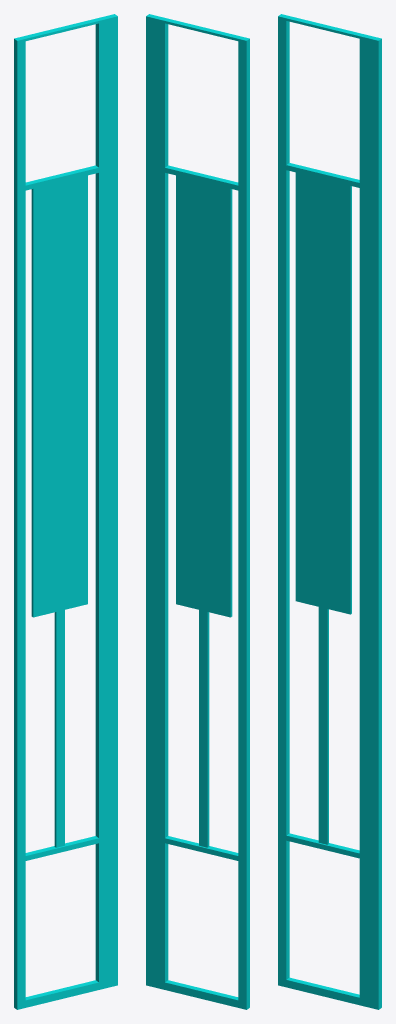
Rendered from DoorTag06.fbx.
3 views of the same model, side by side, from view 1: azimuth 30°, elevation 25°; view 2: azimuth 150°, elevation 25°; view 3: azimuth 330°, elevation 25° (orthographic).
Visible parts, largest first — view 1: DoorTag06; view 2: DoorTag06; view 3: DoorTag06.
Part boxes in pixels (x1,y1,x2,y2): DoorTag06: [14, 14, 117, 1009]; DoorTag06: [146, 14, 249, 1009]; DoorTag06: [278, 14, 381, 1009].
Bounding box in the file's own units: 33.64 × 309 × 1.83.
